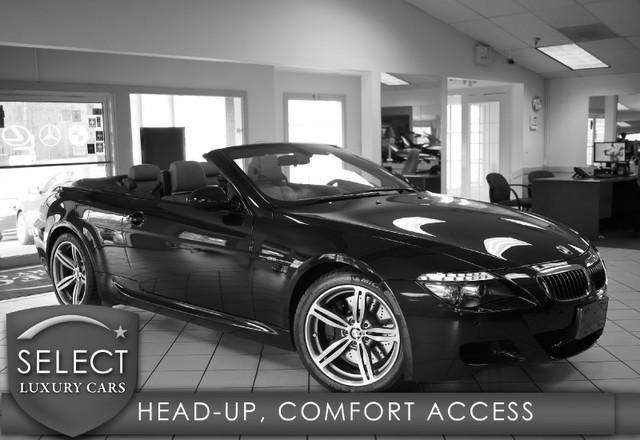car: (33, 142, 612, 396)
